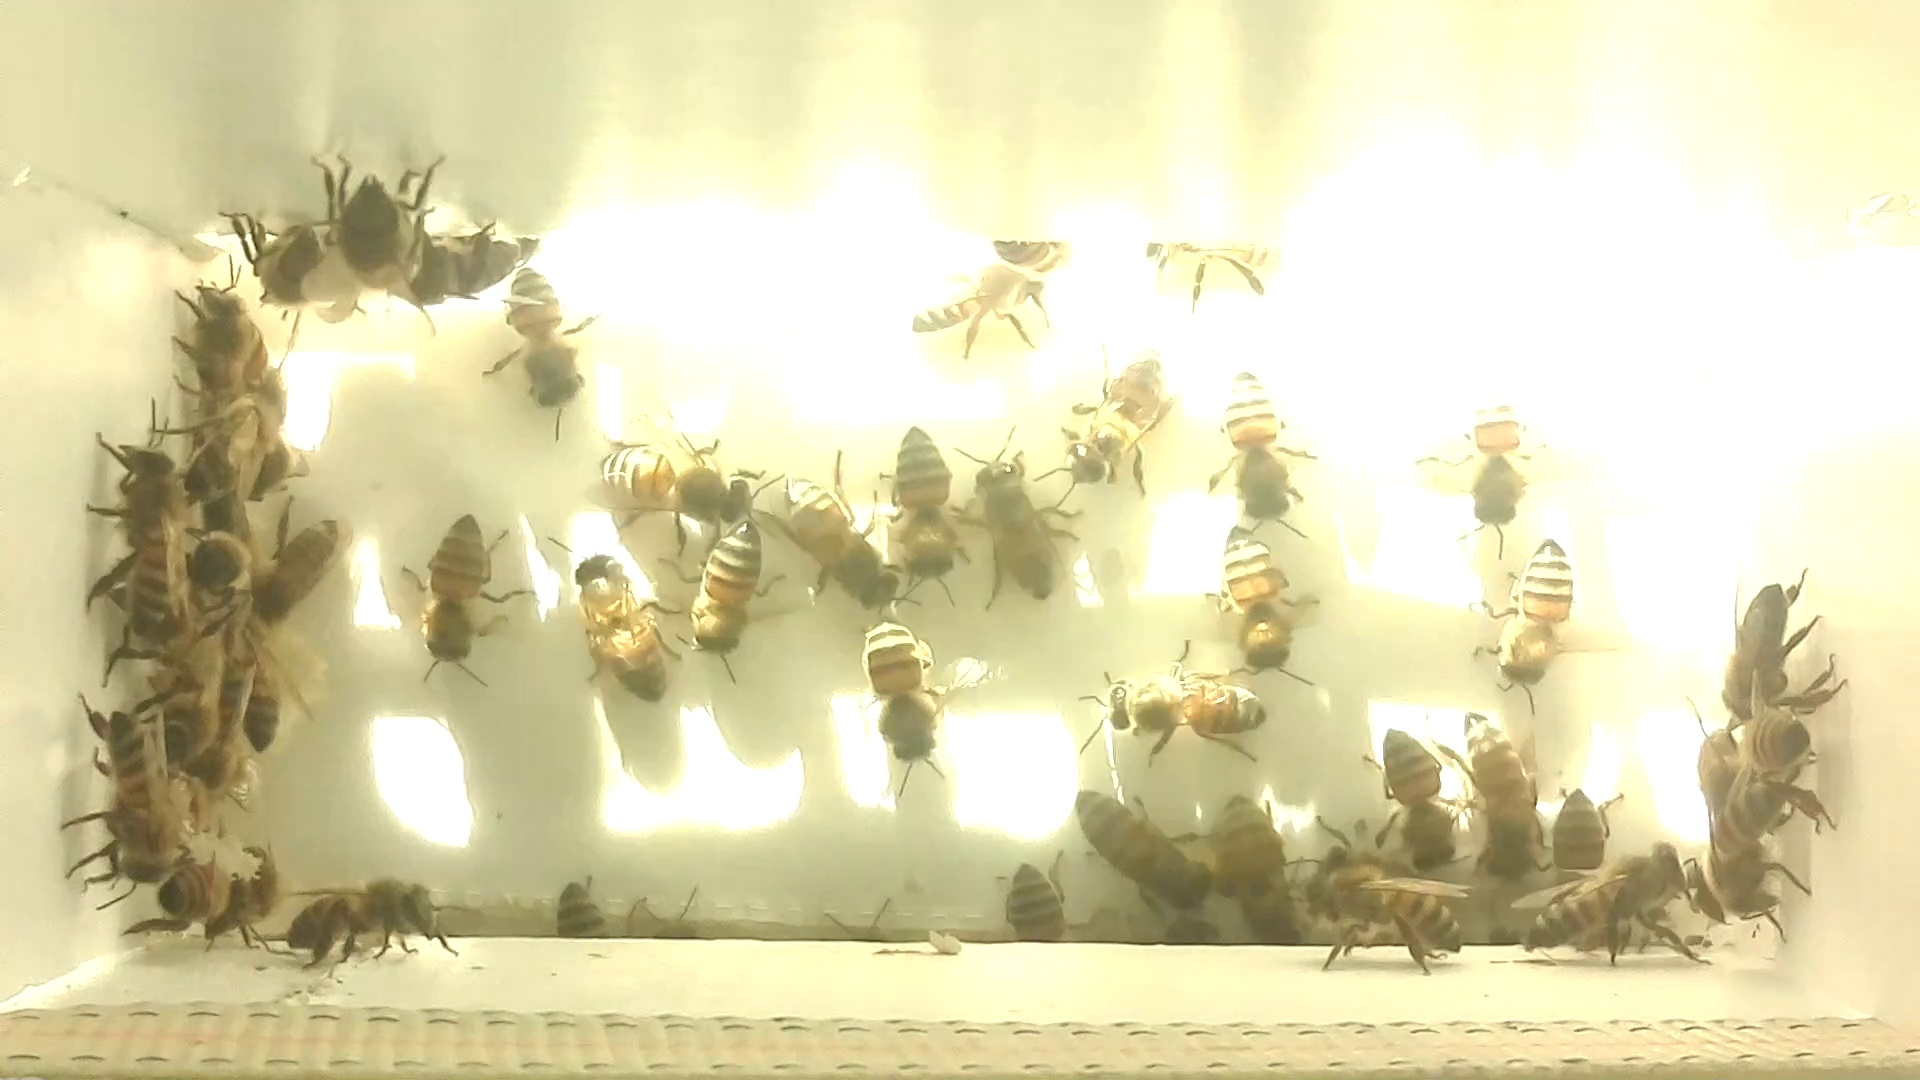bee: (1064, 629, 1303, 779), (935, 411, 1093, 618), (71, 404, 200, 647), (390, 502, 545, 705), (754, 438, 909, 636), (1691, 720, 1824, 948), (545, 526, 695, 720), (645, 495, 789, 694), (1060, 764, 1228, 934), (303, 136, 464, 313), (837, 607, 980, 800), (462, 255, 611, 438), (1458, 516, 1592, 713), (866, 409, 993, 616), (1189, 516, 1336, 694), (583, 409, 765, 549), (1197, 360, 1335, 541), (1050, 331, 1185, 512), (1418, 367, 1548, 553), (1526, 848, 1700, 978), (65, 690, 183, 876), (1305, 858, 1474, 986), (1191, 781, 1317, 951), (1730, 675, 1869, 824), (880, 241, 1054, 357), (1702, 568, 1836, 720), (272, 858, 451, 971), (1448, 709, 1553, 895), (1358, 719, 1480, 880), (131, 820, 265, 955), (173, 378, 280, 531), (241, 491, 349, 640), (210, 199, 330, 326), (175, 268, 262, 433), (142, 628, 229, 789), (1127, 224, 1286, 310), (986, 851, 1095, 964), (421, 215, 553, 305), (222, 629, 306, 766), (1538, 766, 1638, 874), (175, 518, 264, 618), (535, 858, 615, 949)
